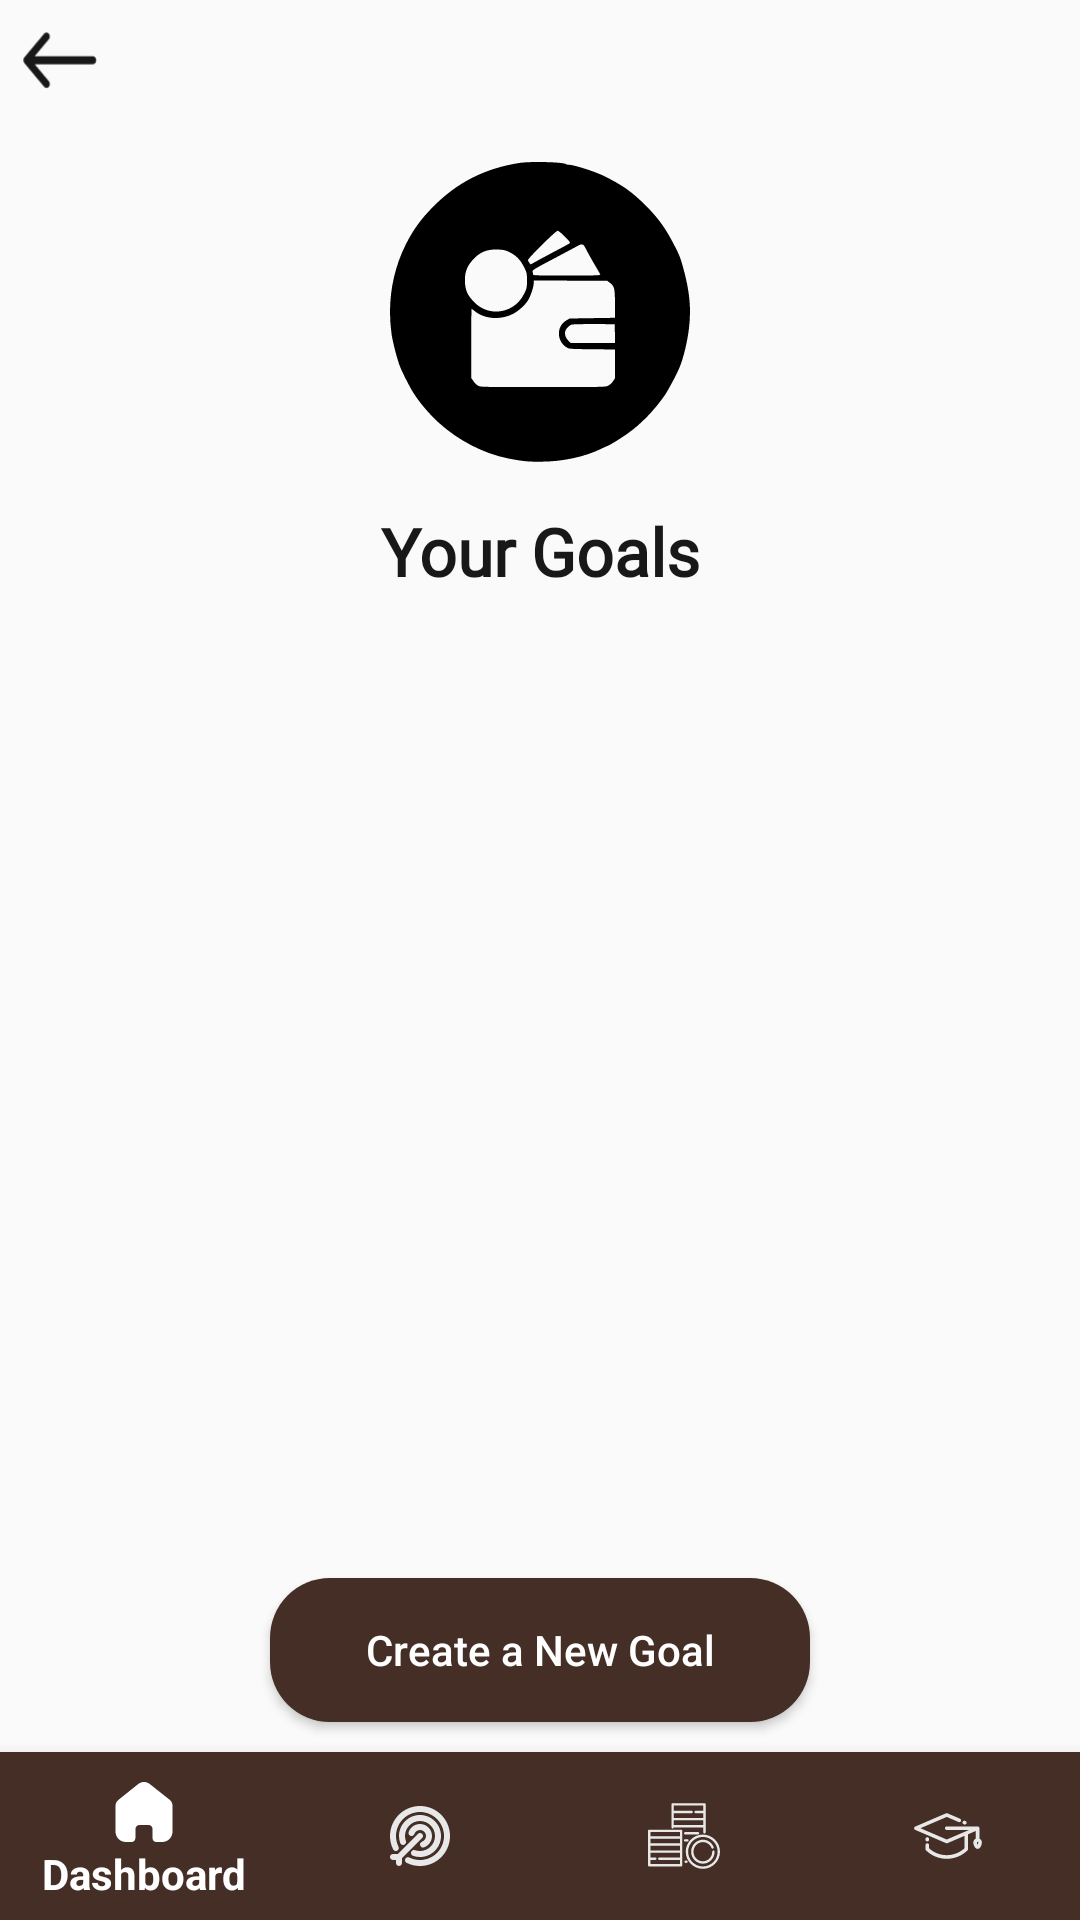

Screen size 1080 x 1920. Icon name, then its center in pixels as [x,y]:
left arrow: [60,60]
